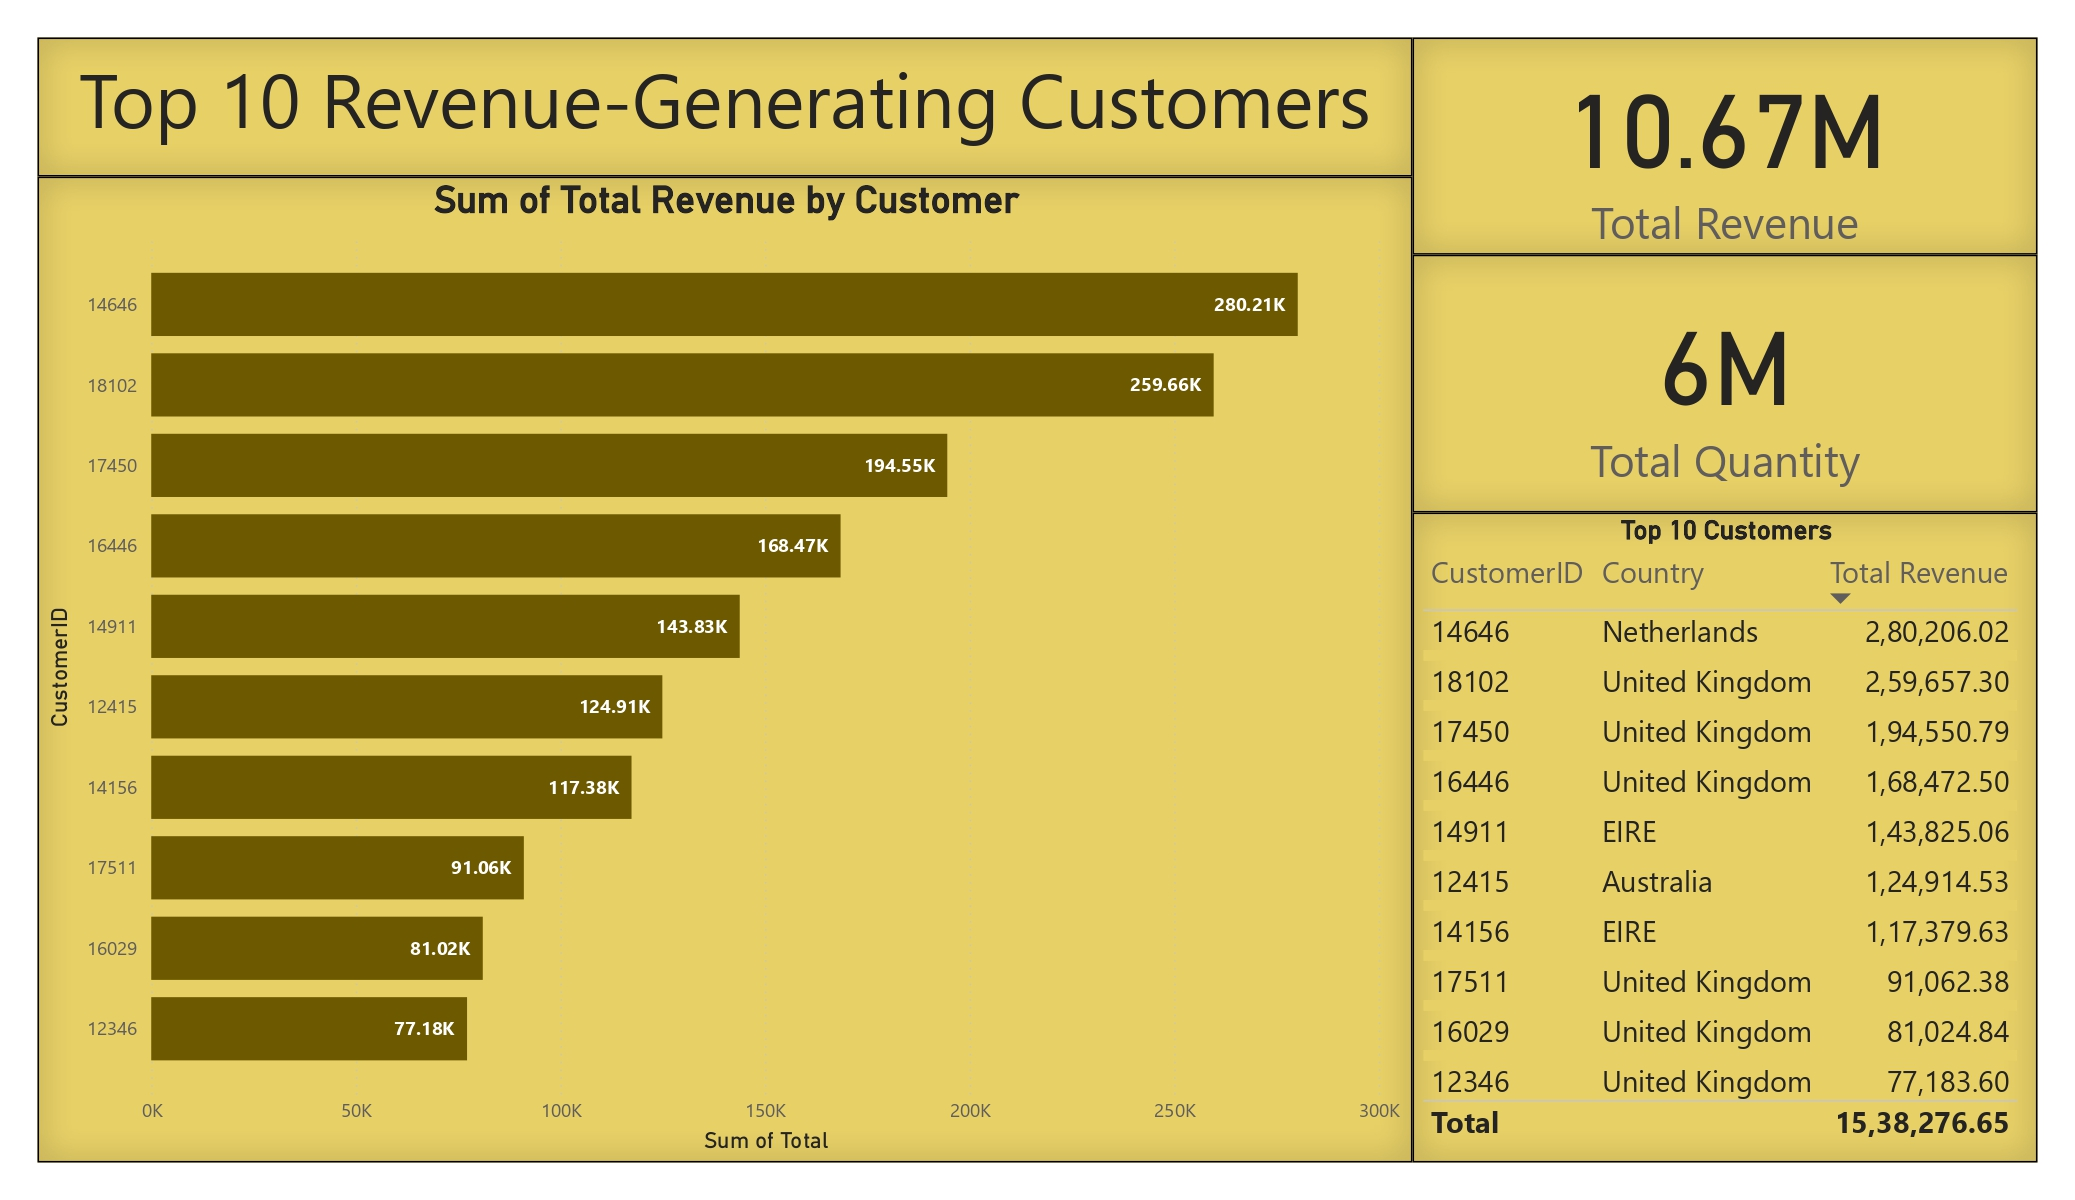

This screenshot's page, from the dashboard's own definition file:
{"tool":"powerbi","page":{"name":"Q3","canvas":[1280,720],"ordinal":2},"visuals":[{"type":"textbox","box":[0,0,880,88.6],"z":0},{"type":"tableEx","title":"Top 10 Customers","fields":{"Values":["Online Retail.CustomerID","Online Retail.Country","Sum(Online Retail.Total)"]},"box":[880,304.3,400,415.7],"z":1000},{"type":"card","fields":{"Values":["Sum(Online Retail.Total)"]},"box":[880,0,400,138.6],"z":2000},{"type":"barChart","title":"Sum of Total Revenue by Customer","fields":{"Category":["Online Retail.CustomerID"],"Y":["Sum(Online Retail.Total)"]},"box":[0,88.6,880,631.4],"z":3000},{"type":"card","fields":{"Values":["Sum(Online Retail.Quantity)"]},"box":[880,138.6,400,165.7],"z":5000}]}

Visuals, with their boxes in screenshot pixels (x1, y1, x2, y2):
textbox: 38:38:1412:176
"Top 10 Customers" tableEx: 1412:513:2038:1162
card - Sum(Online Retail.Total): 1412:38:2038:254
"Sum of Total Revenue by Customer" barChart: 38:176:1412:1162
card - Sum(Online Retail.Quantity): 1412:254:2038:513
